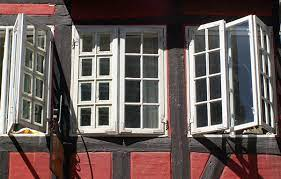Window: (75, 24, 166, 132), (192, 26, 273, 130), (4, 26, 55, 137)
